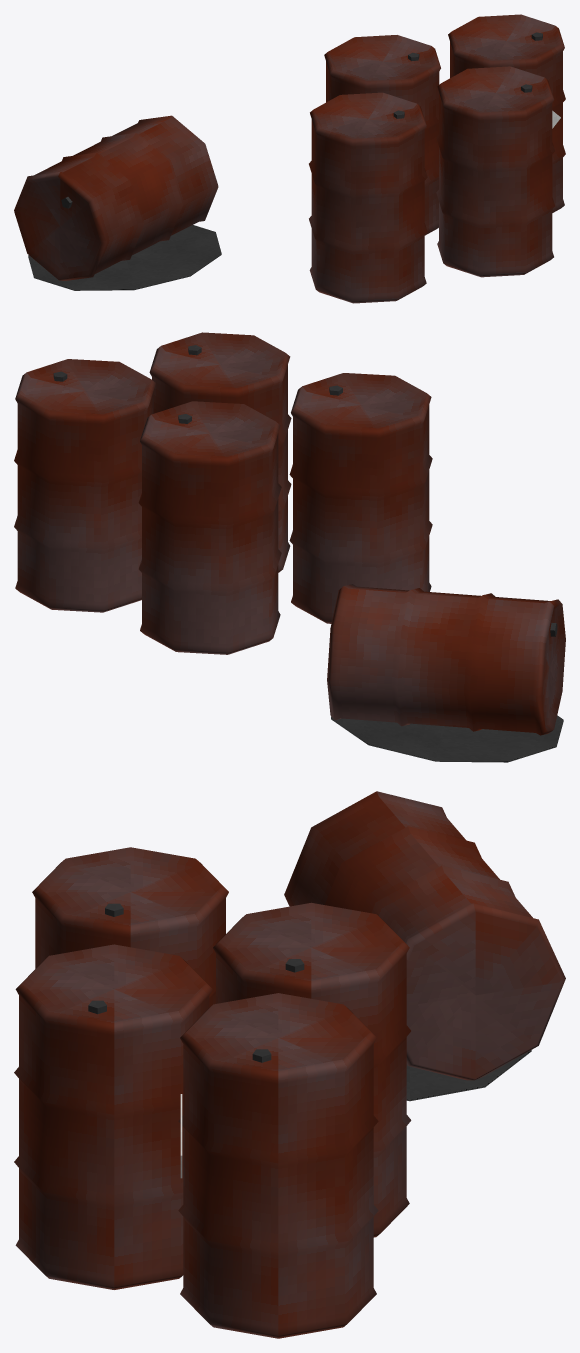
File: ext_fuel_barrels.glb
3 renders of one model, top to bottom at view 1: azimuth 30°, elevation 25°; view 2: azimuth 150°, elevation 25°; view 3: azimuth 270°, elevation 25°, orthographic. The views are drawn at different scales.
Visible parts, largest first — view 1: barrels-col, detail; view 2: barrels-col, detail; view 3: barrels-col, detail.
Boxes of the visible parts, box(x1,y1,x2,y2) form: barrels-col: box(14, 14, 565, 303); detail: box(28, 110, 560, 290); barrels-col: box(14, 332, 565, 735); detail: box(331, 715, 563, 762); barrels-col: box(14, 791, 565, 1338); detail: box(180, 1050, 531, 1178).
Bounding box in the file's own units: 2.8 × 0.905 × 1.68.
Materials: 3 (3 with a texture image).
